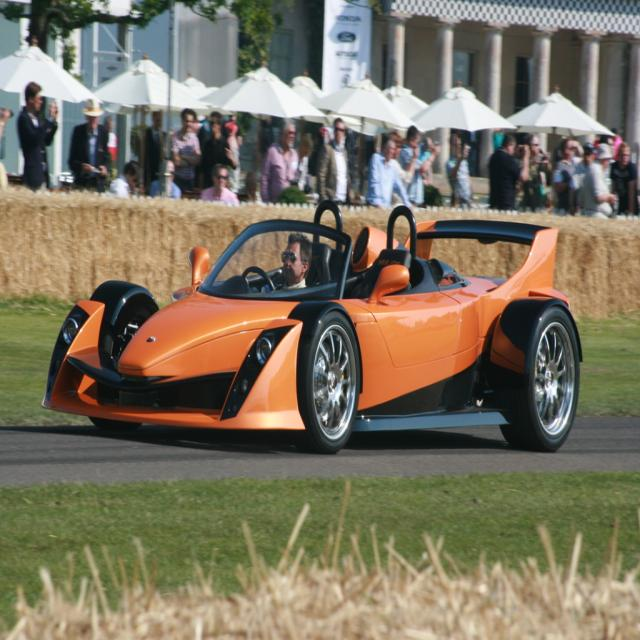car: (38, 185, 586, 454)
